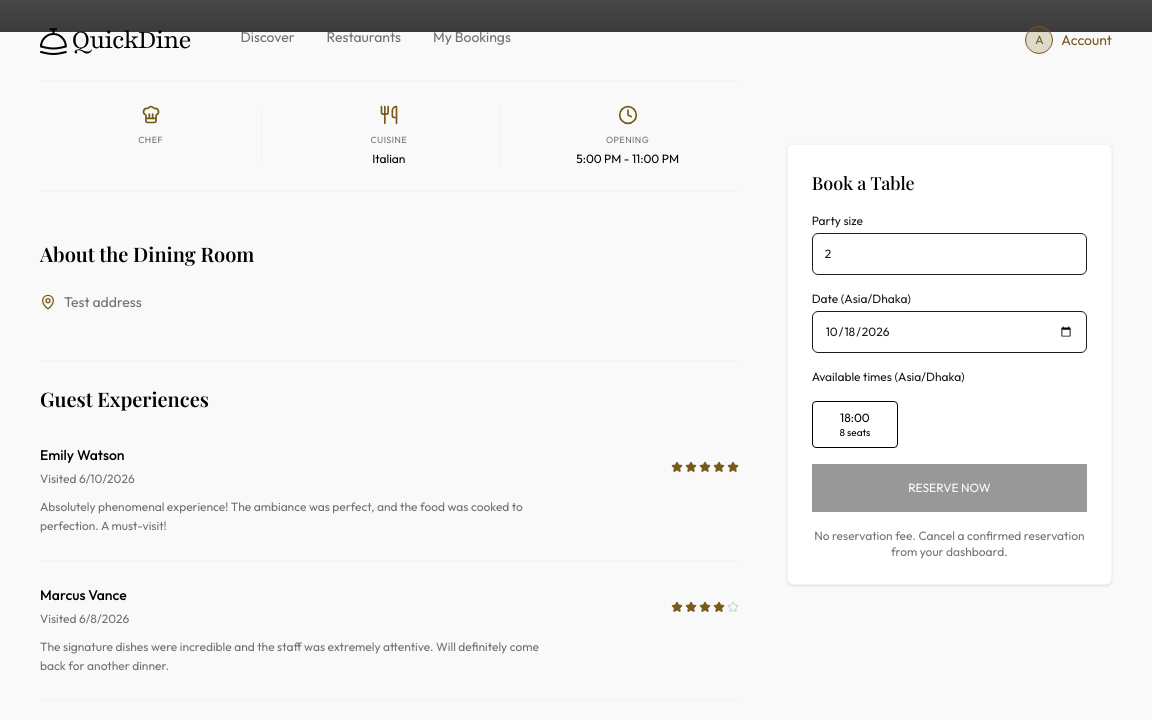
Scenario: complete page journeys › restaurant loads availability then navigates to confirmation
(page scrolled)
Click the button "18:00 8 seats".
click(855, 425)  # box left=812, top=401, right=898, bottom=448
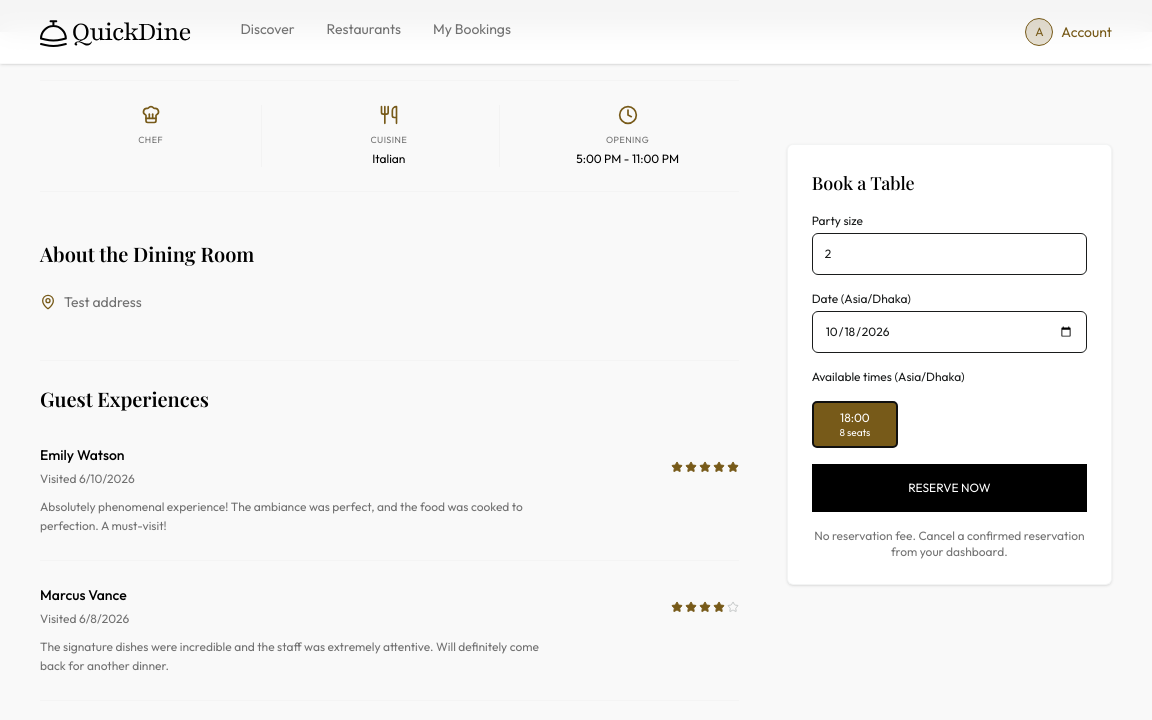
Click the button "RESERVE NOW".
click(949, 488)  # box left=812, top=464, right=1087, bottom=512
(page scrolled)
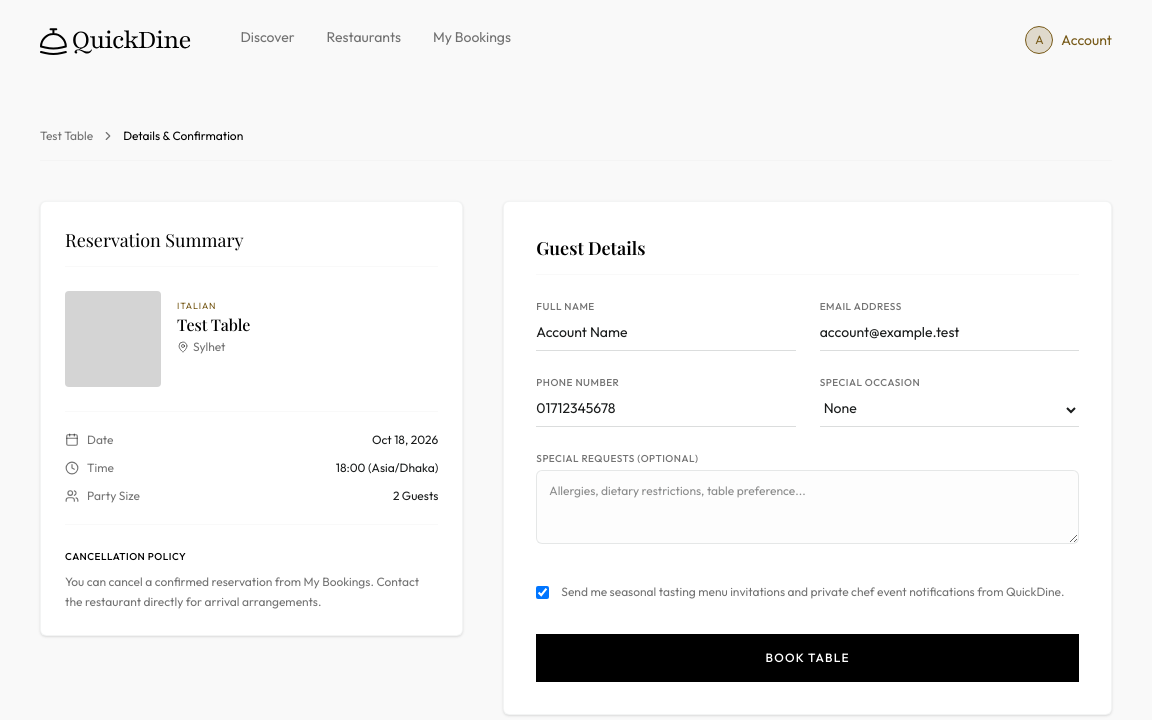
Expected: the heading "Guest Details" is shown, left=536, top=234, right=1079, bottom=275
